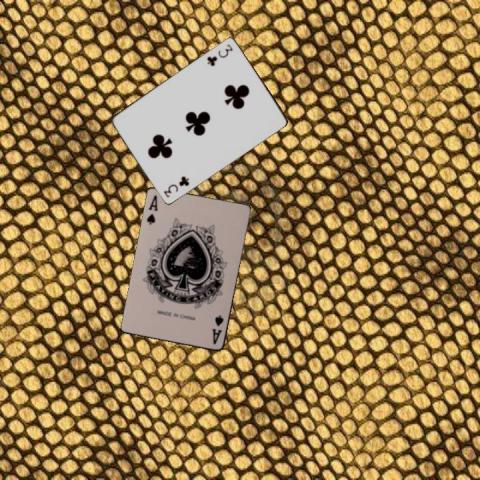3c: (204, 41, 234, 67), (160, 173, 190, 199)
As: (210, 312, 226, 346), (144, 192, 159, 227)
